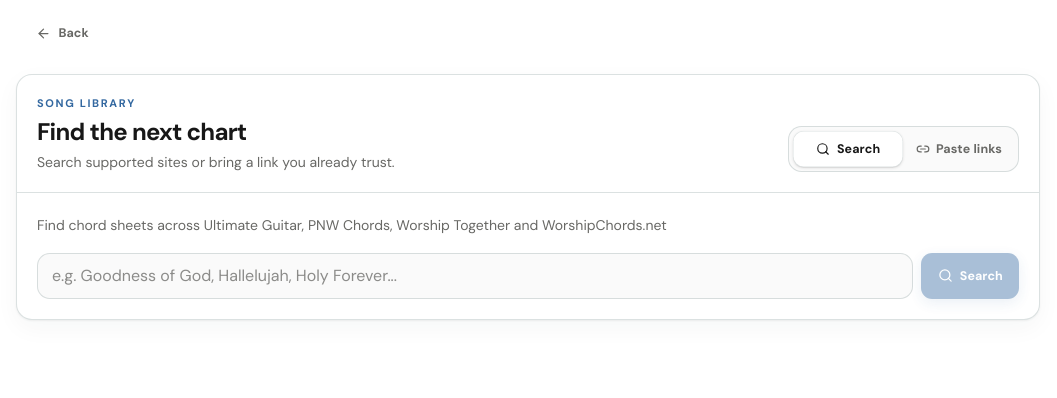
Test case: SearchPage import wiring › does not show the empty state underneath a search error
Type "Good Grace" into the field with placeholder "e.g. Goodness of God, Hallelujah, Holy Forever...". click: (475, 276)
box: [37,253,913,299]
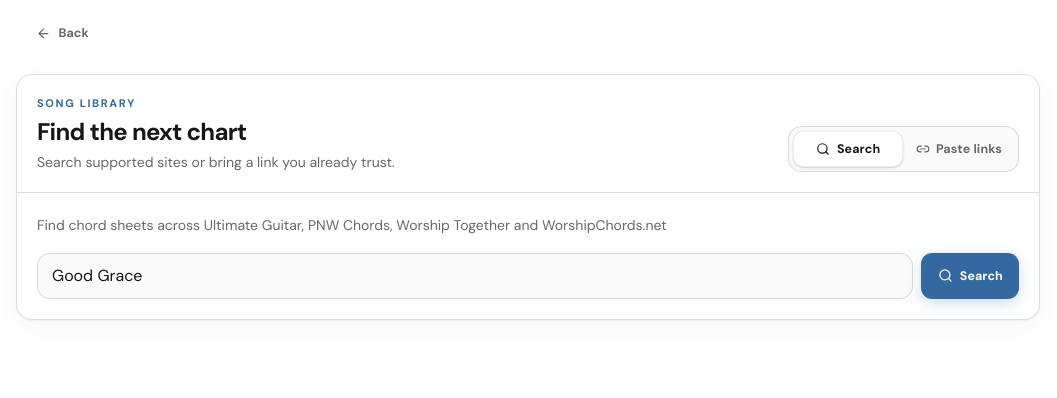
Submit the form with placeholder "Goodness of God, Hallelujah, Holy Forever", box [37,253,1019,299]
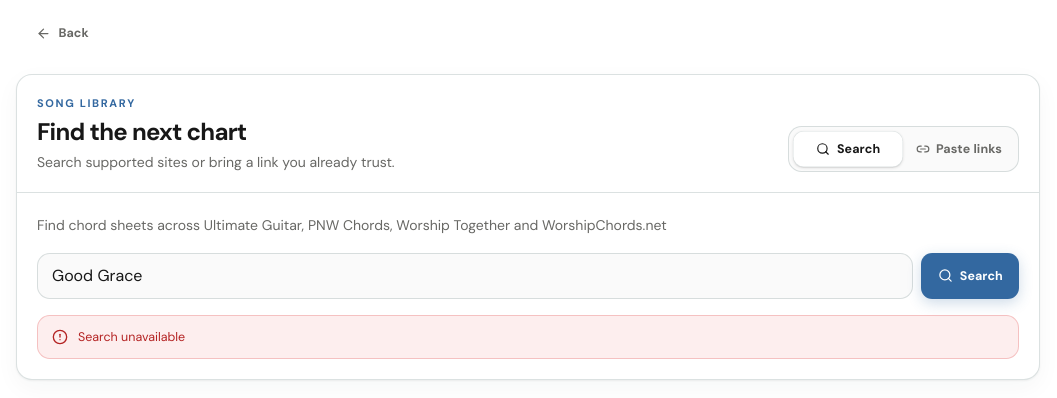
Expected: the text "Search unavailable" is shown, [78,328,185,346]
